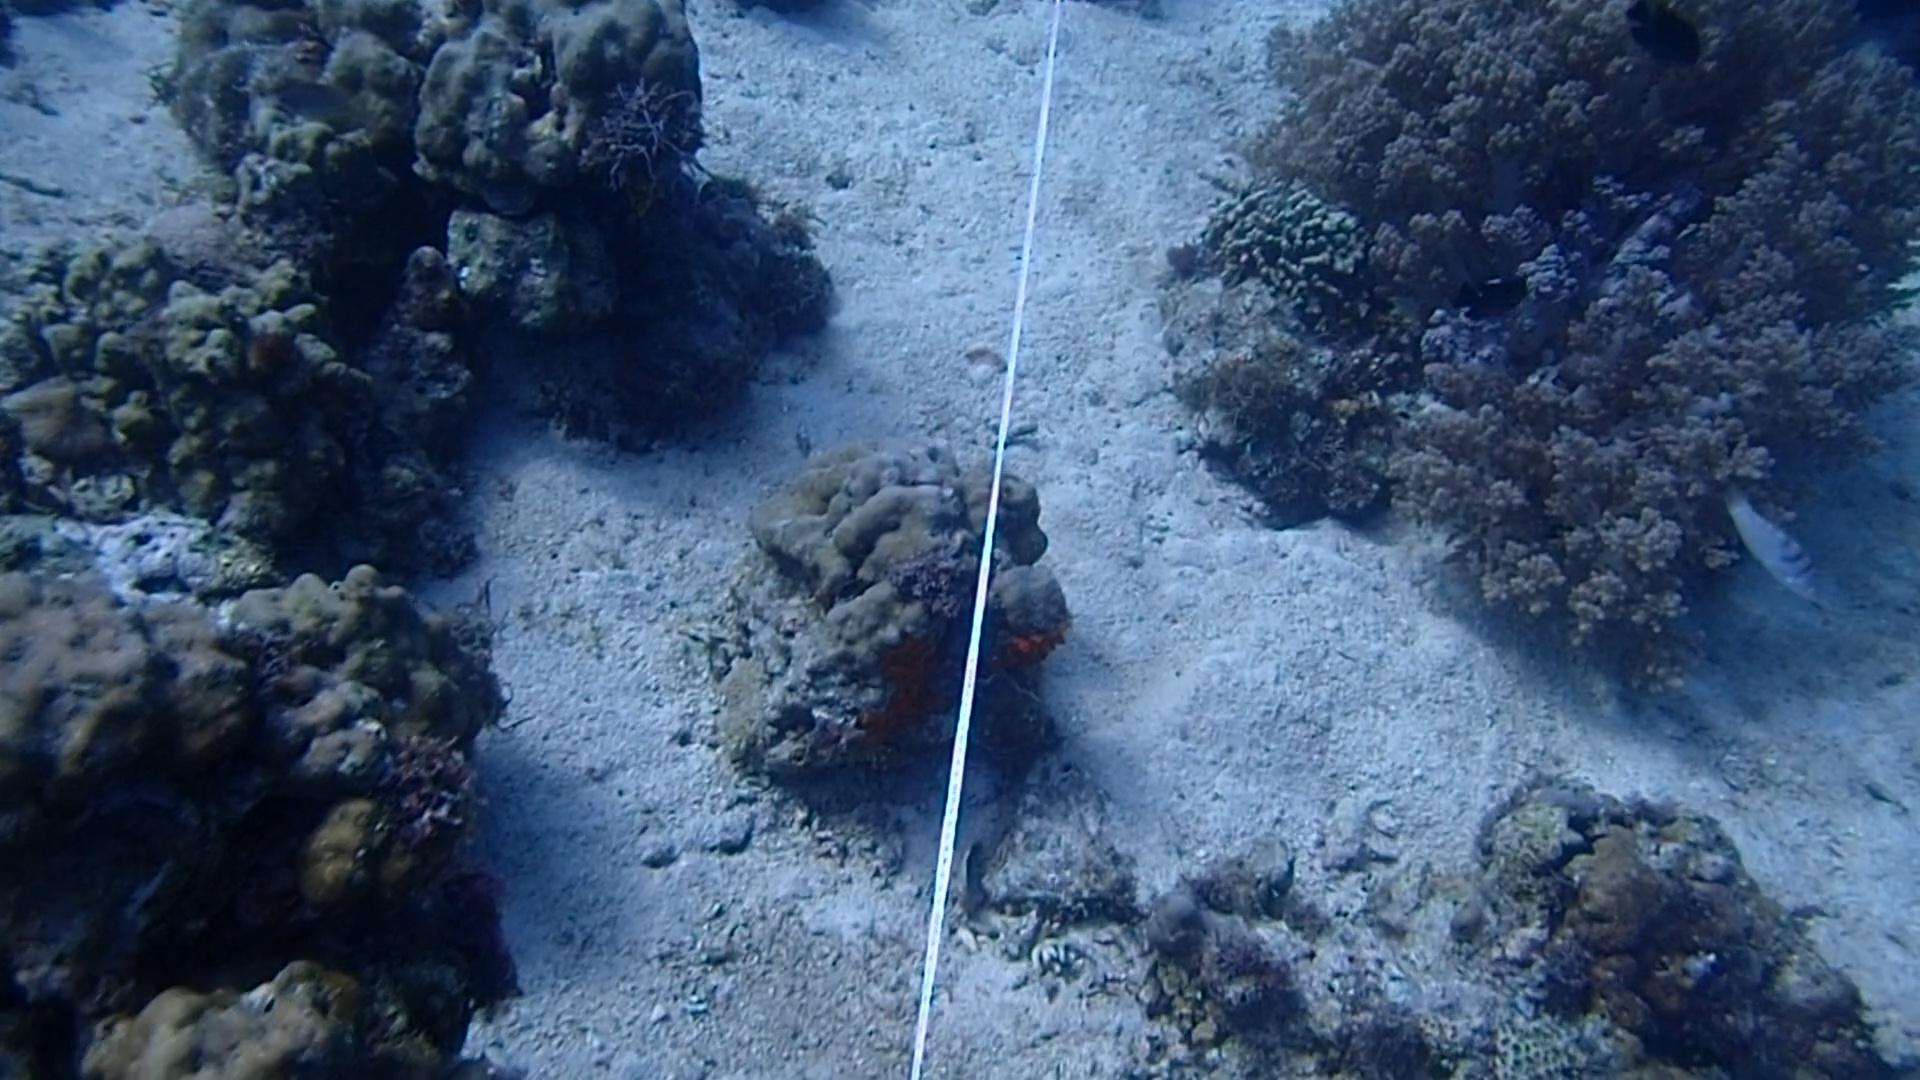Dark Fish: (1622, 4, 1706, 76), (1448, 258, 1542, 323)
Light Fish w Back Stripes: (1724, 479, 1825, 609)
